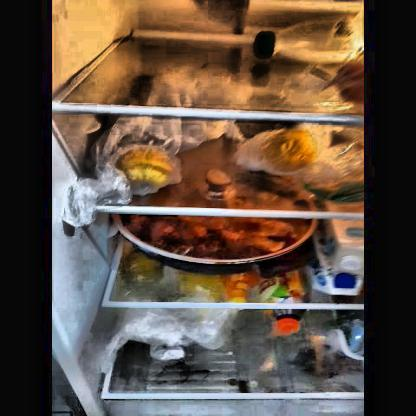lemon: (118, 147, 173, 192), (264, 130, 321, 172)
milk: (314, 219, 362, 293)
